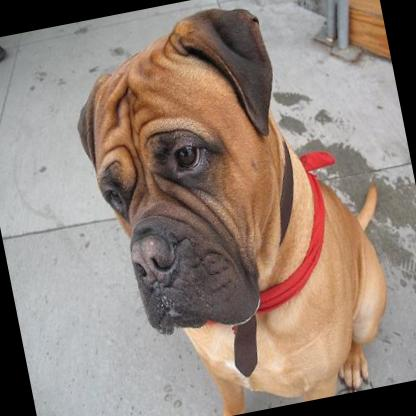bull_mastiff: (59, 0, 413, 416)
